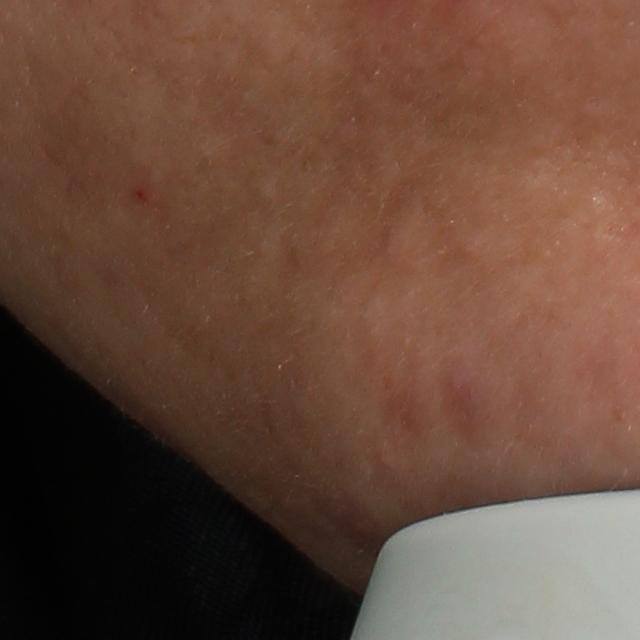hypertrophic_scar: (248, 173, 285, 219)
